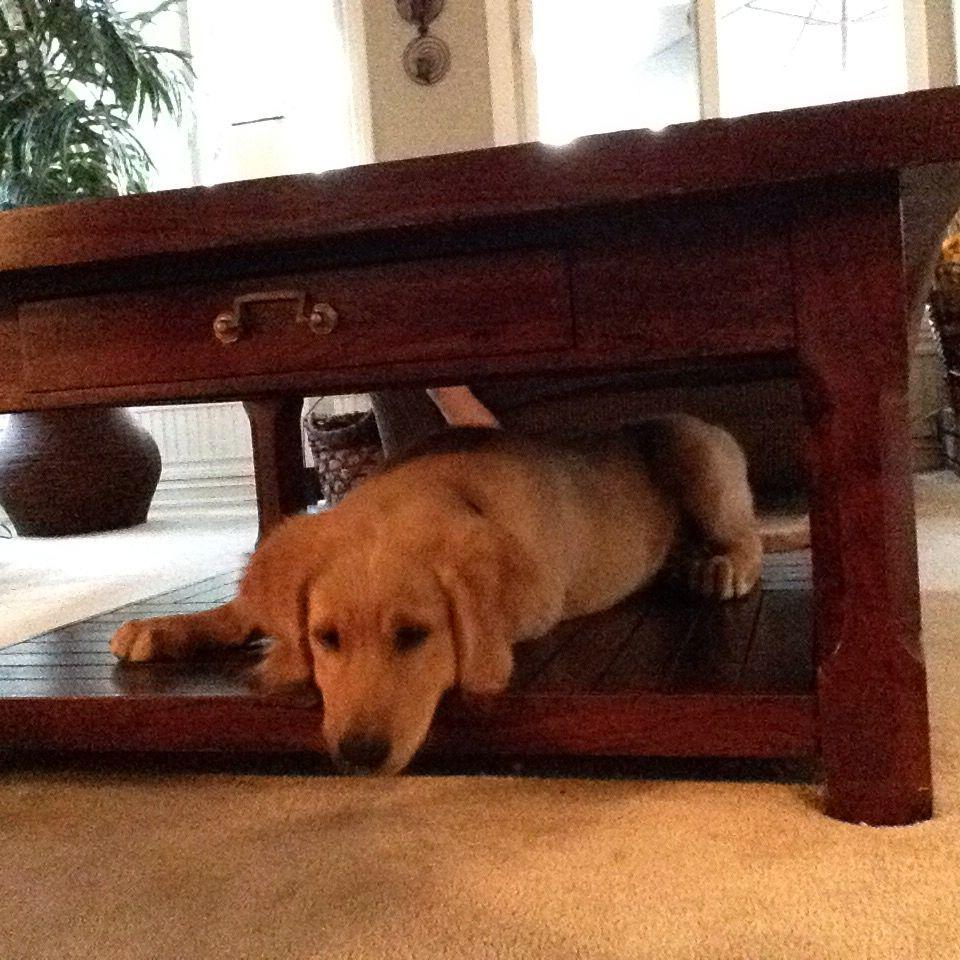adult_dog: (97, 413, 813, 781)
